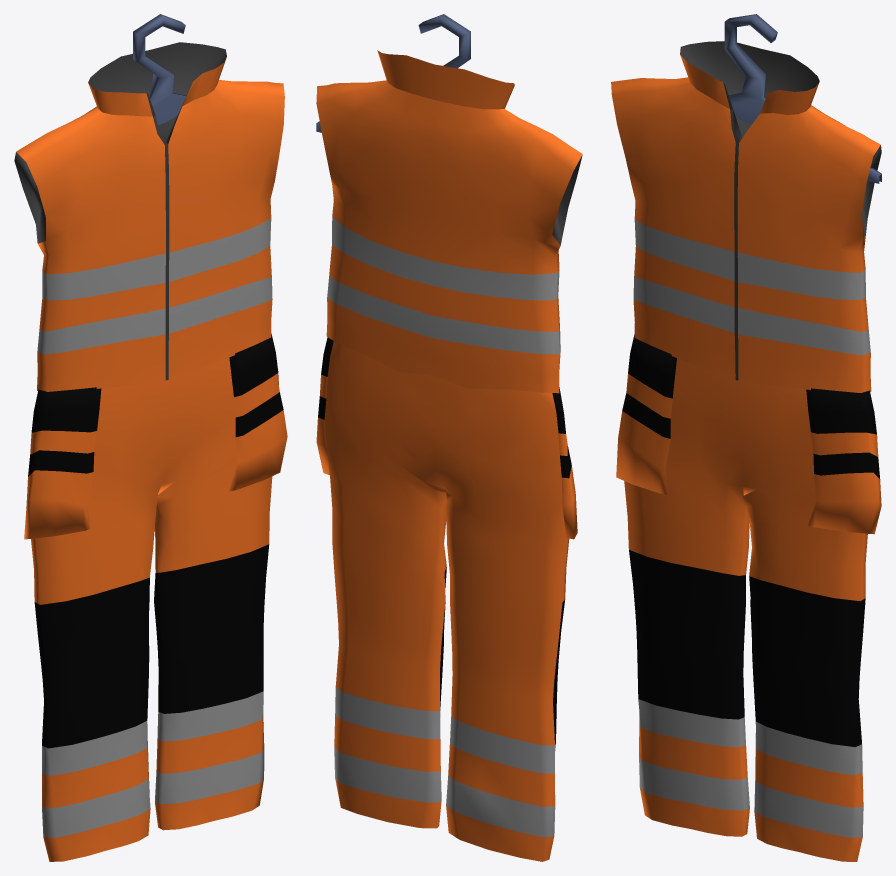
Rendered from costume_worker.fbx.
3 renders of one model, left to right at view 1: azimuth 30°, elevation 25°; view 2: azimuth 150°, elevation 25°; view 3: azimuth 330°, elevation 25°, orthographic.
Parts seen in each view (by area): view 1: costume_worker; view 2: costume_worker; view 3: costume_worker.
Boxes of the visible parts, x1,y1,x2,y2 form: costume_worker: [14, 14, 287, 861]; costume_worker: [316, 14, 582, 861]; costume_worker: [611, 14, 881, 861].
Bounding box in the file's own units: 1.16 × 3.4 × 0.196.
